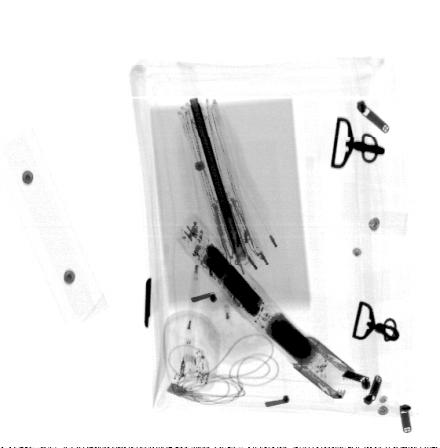Baton: (173, 210, 358, 402)
